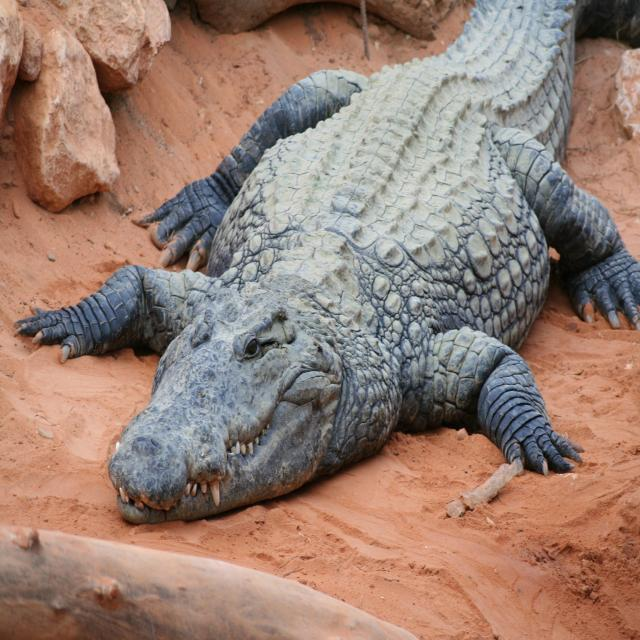crocodile: (20, 2, 640, 524)
